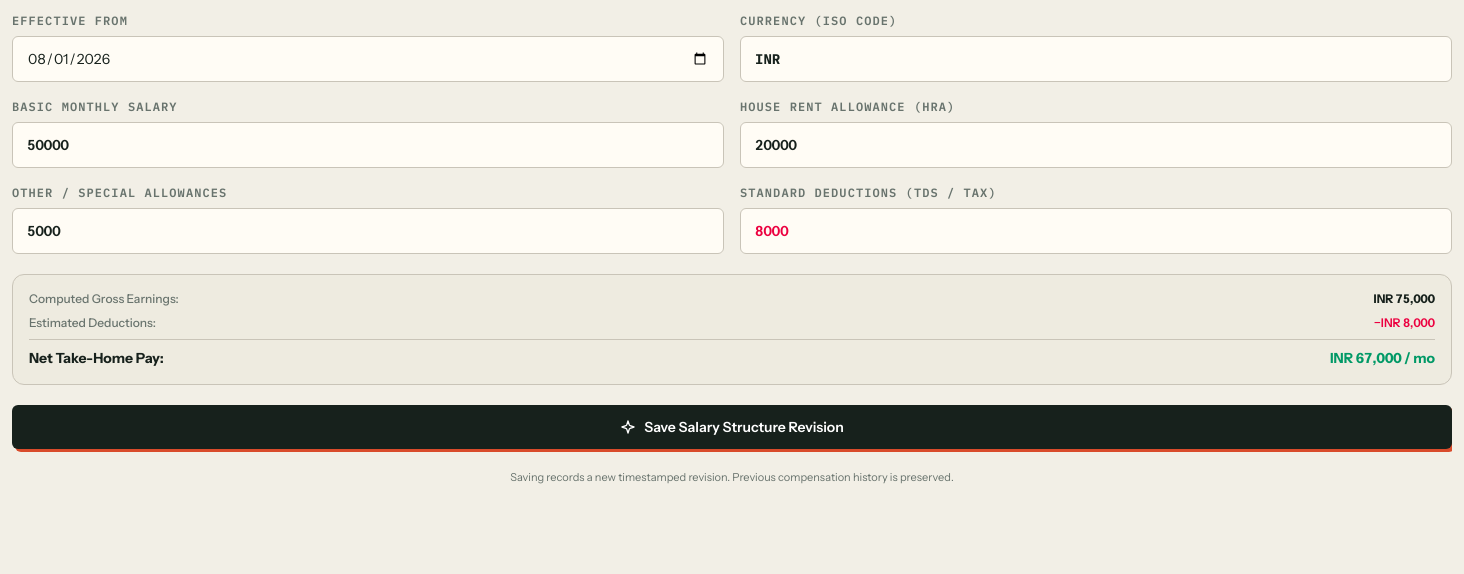
Scenario: SalaryForm › shows an action error and preserves every edited value after rejection
The width and height of the screenshot is (1464, 574).
Type "2026-10-01" into the date field labelled "Effective From" at (368, 59), box [12,36,724,82]
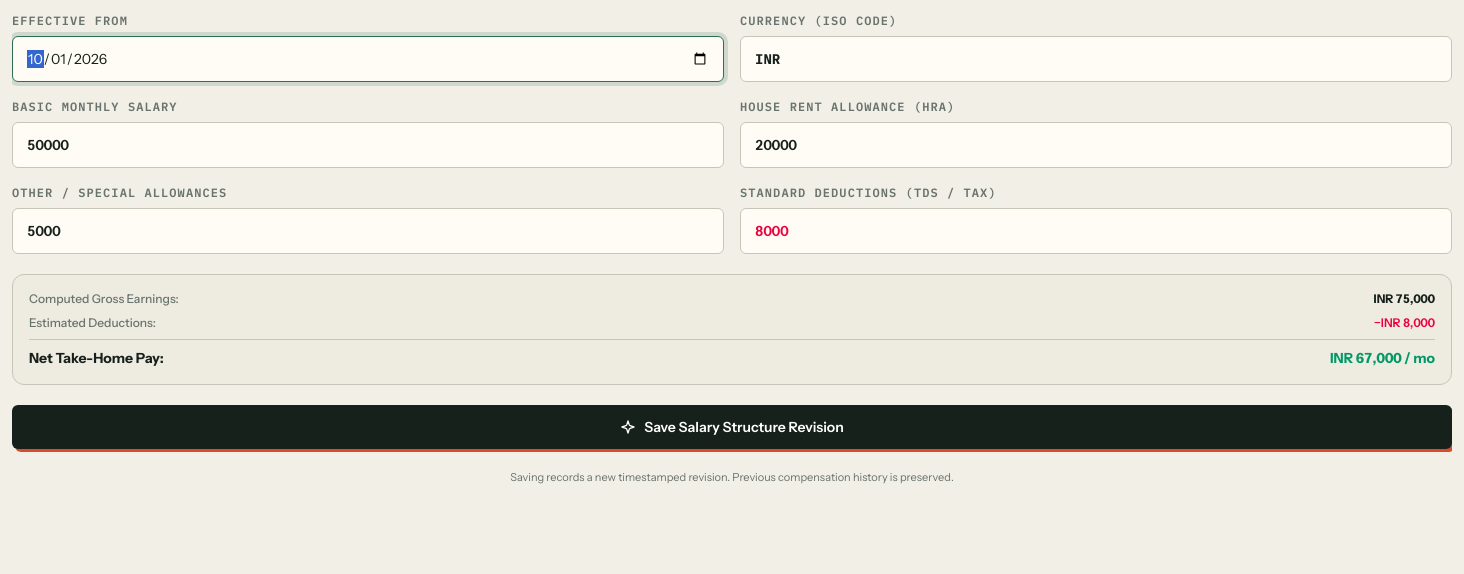
Replace the text in the field labelled "Currency (ISO Code)" with "EUR" at (1096, 59), box [740,36,1452,82]
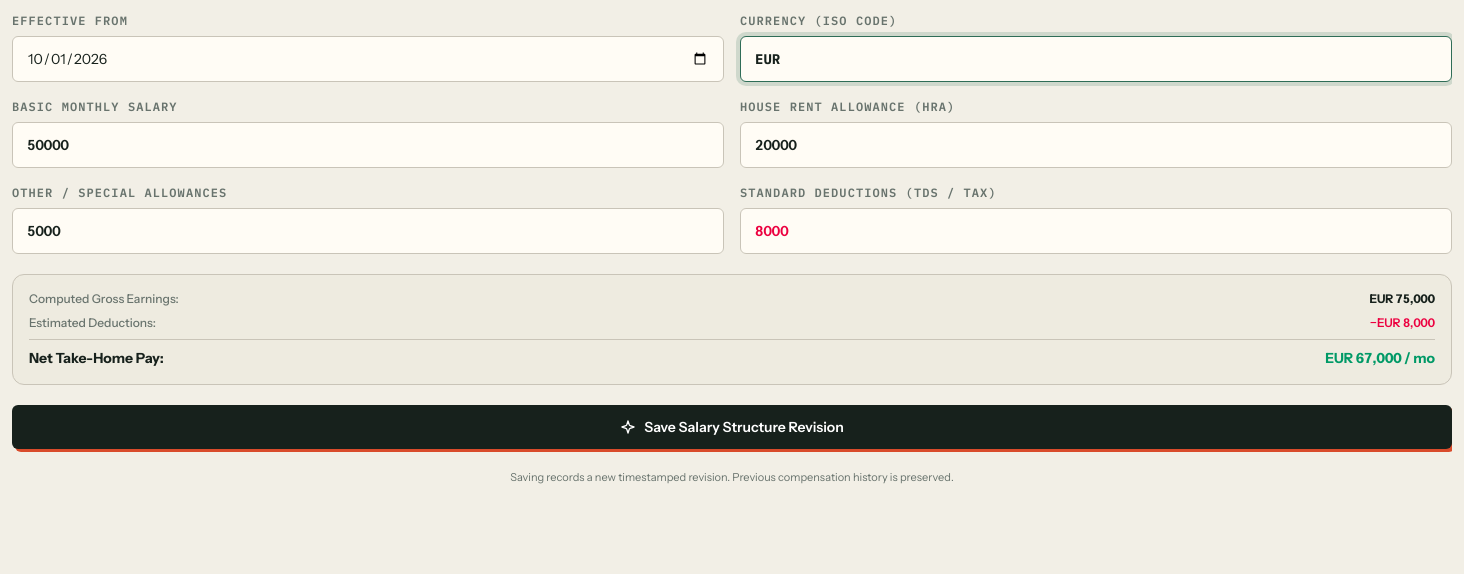
Replace the text in the number field labelled "Other / Special Allowances" with "12500" at (368, 231), box [12,208,724,254]
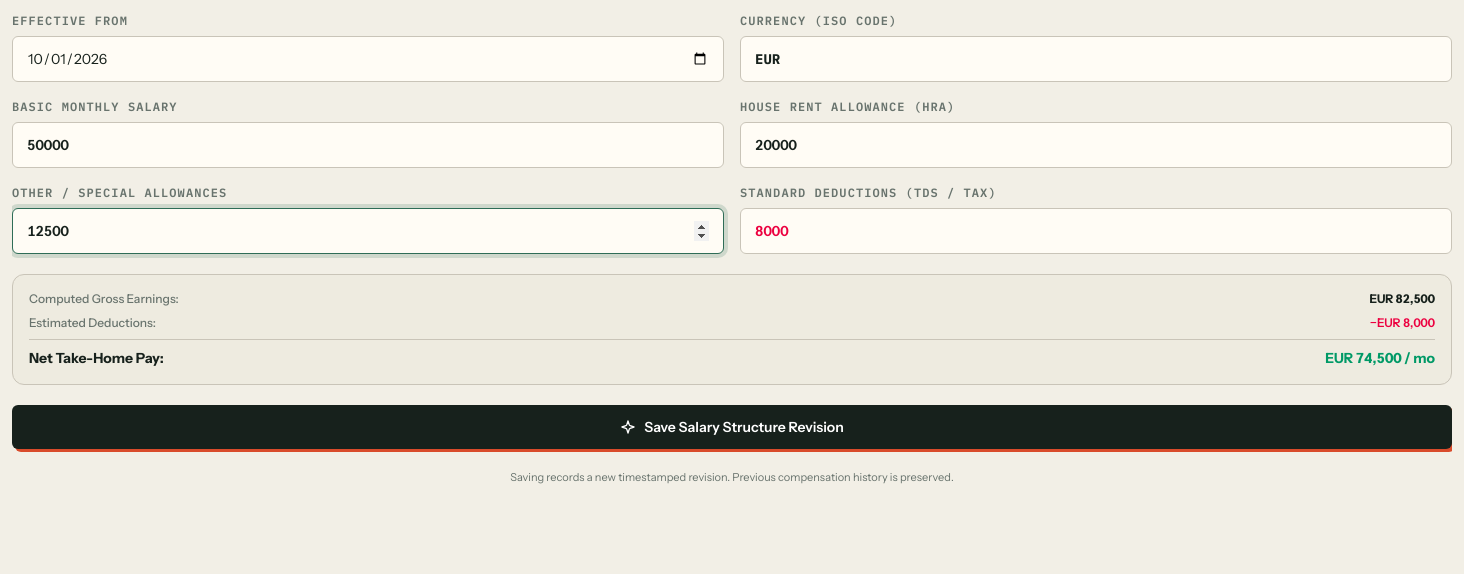
Click the button "Save Salary Structure Revision" at (732, 427), box [12,405,1452,449]
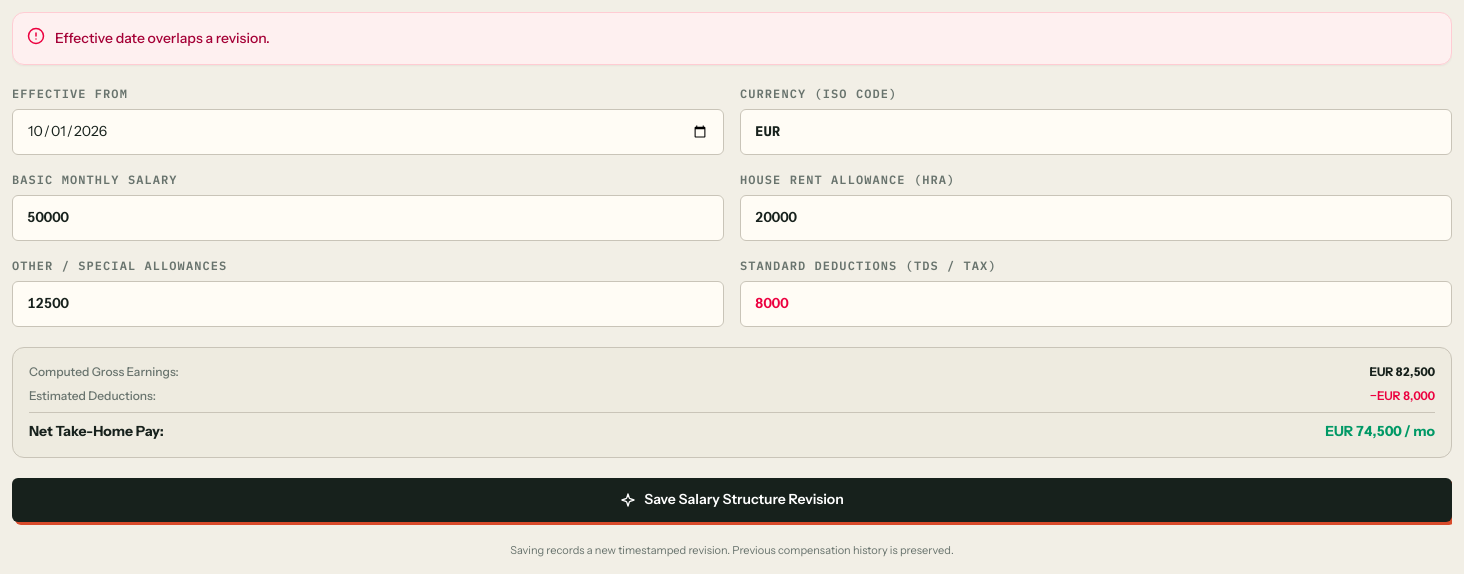
Now the text "EUR 82,500" is shown, box [1370,364,1435,380]
Now the text "Effective date overlaps a revision." is shown, box [55,29,270,47]
